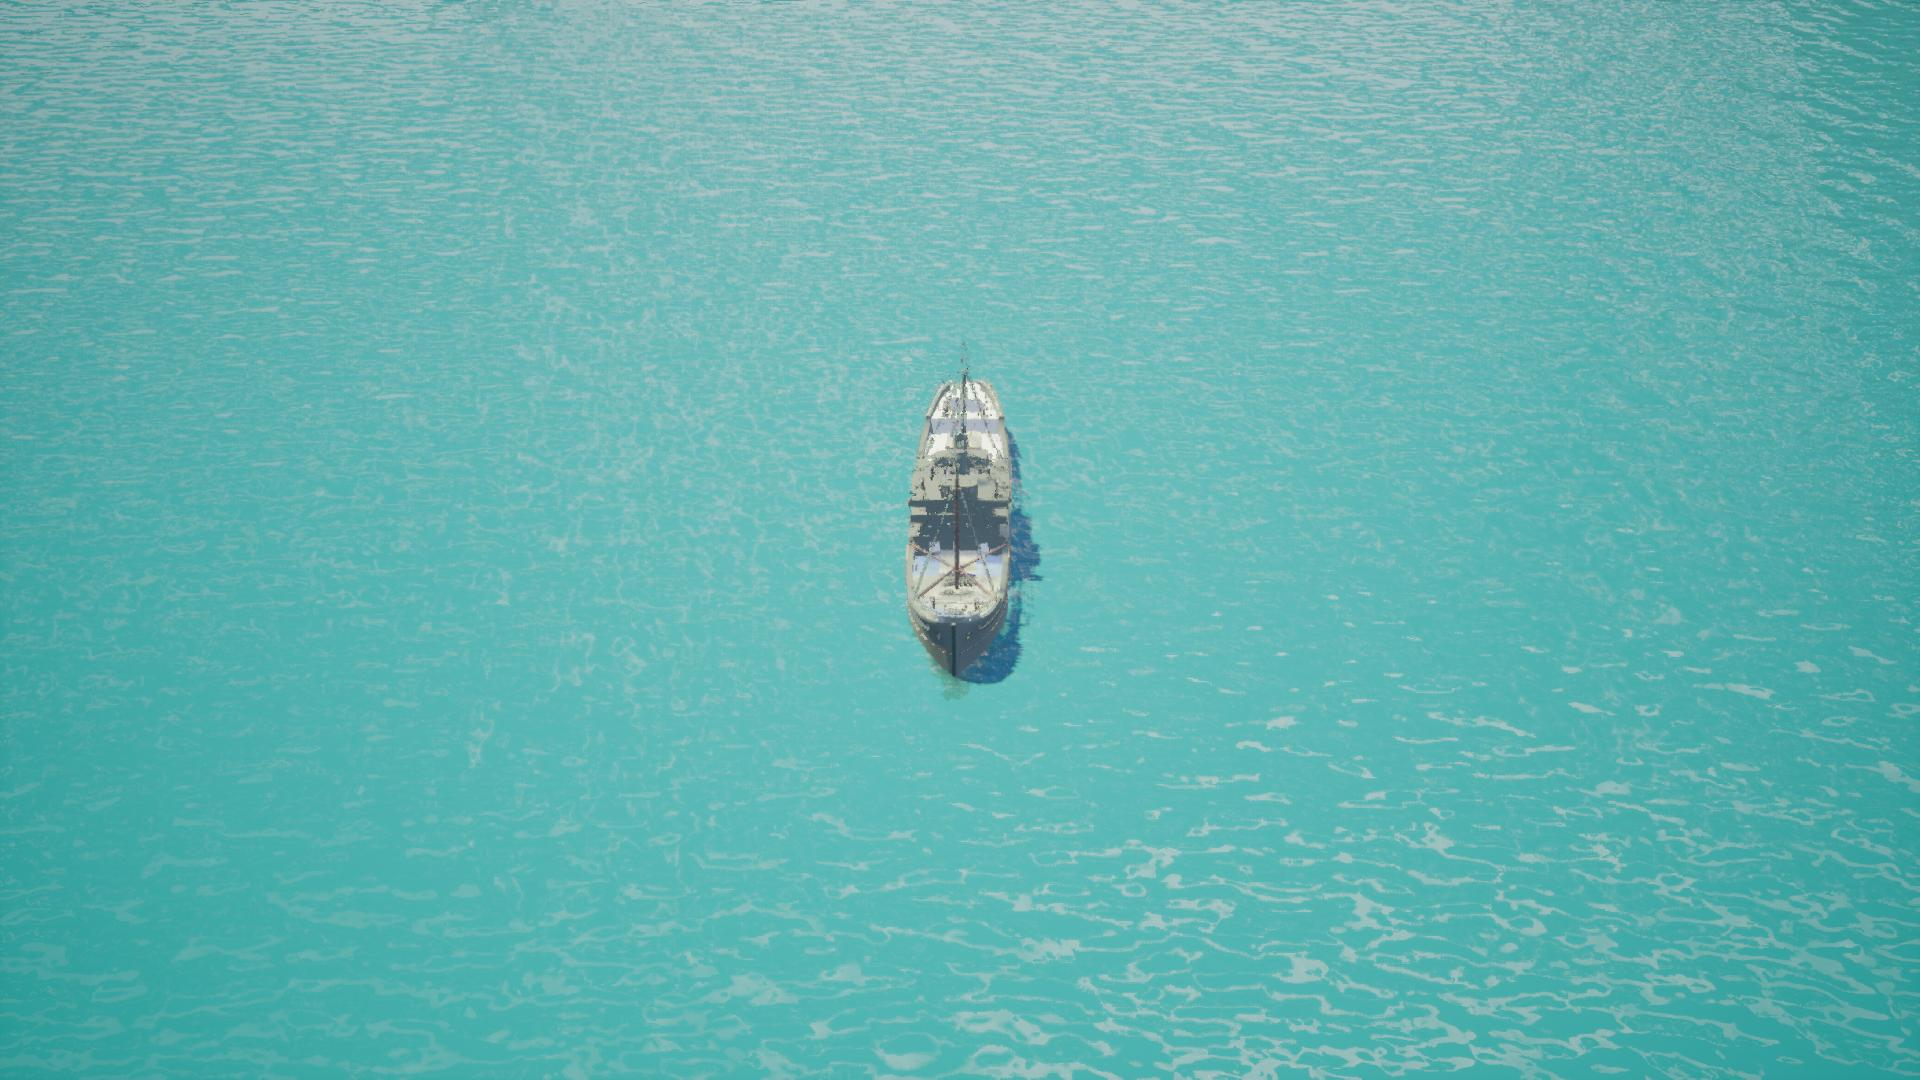Fishing Boat: (899, 360, 1031, 696)
